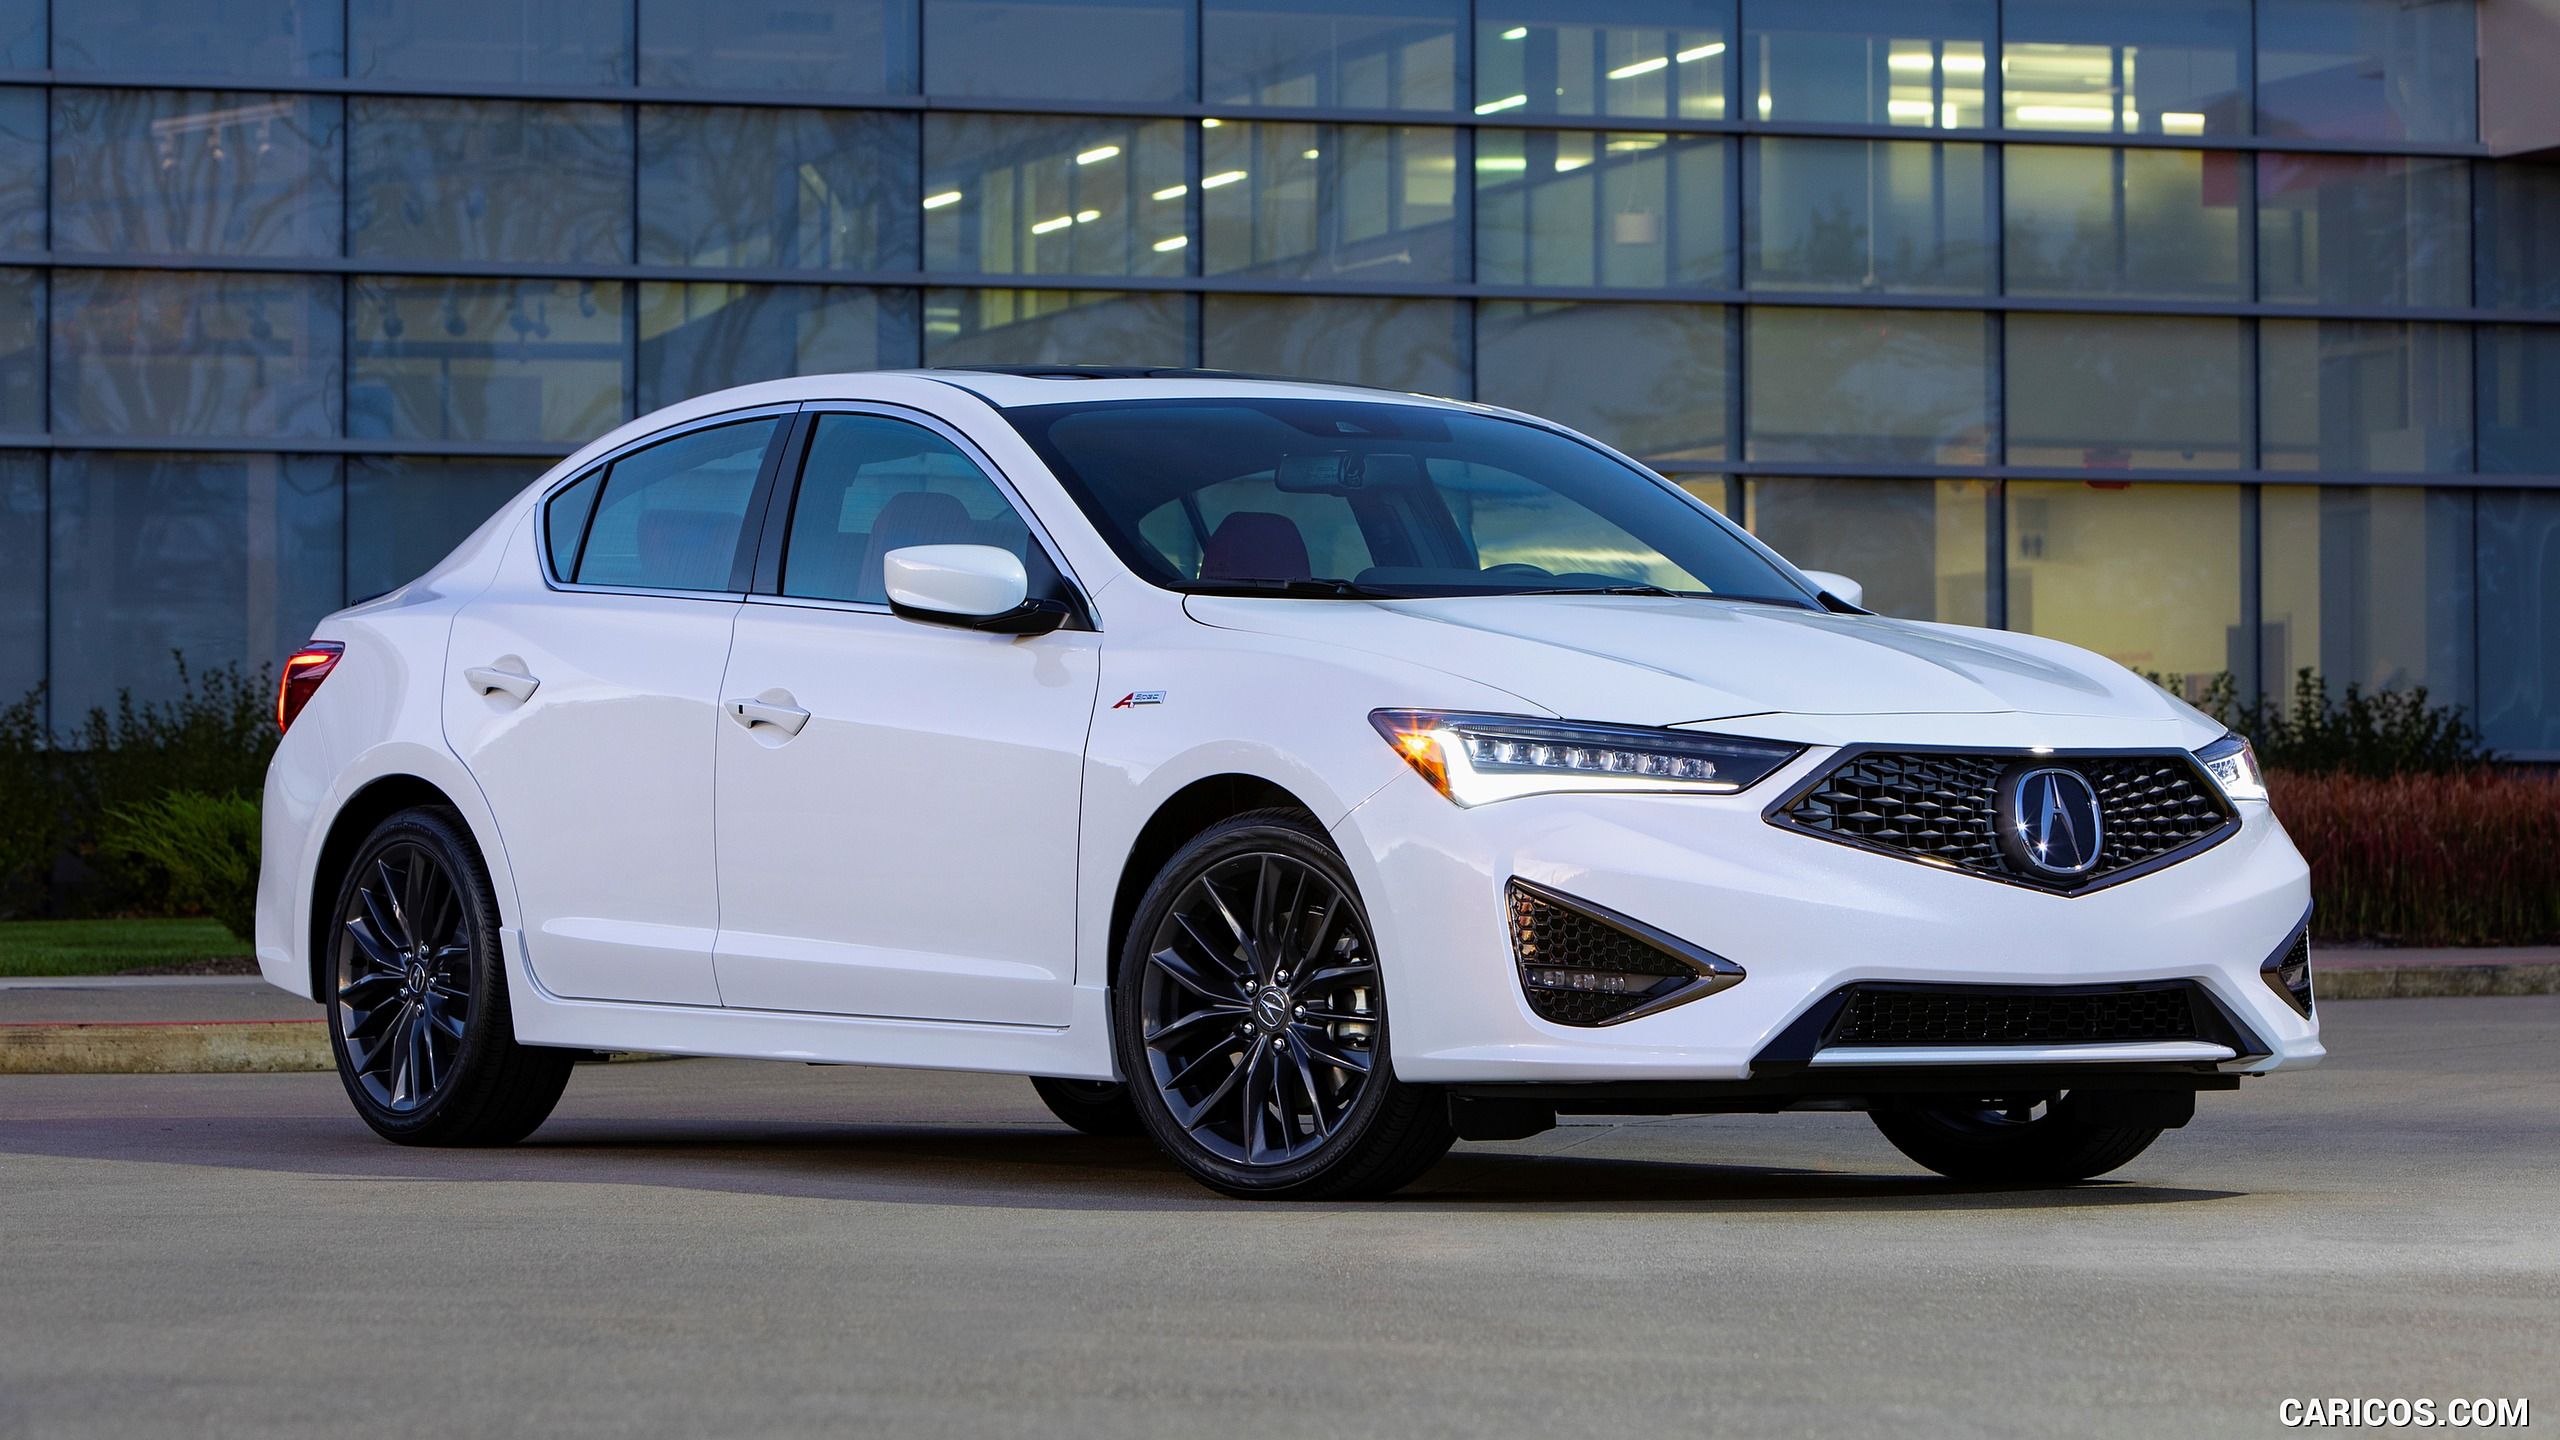Fog Lamp & Scope: (1507, 902, 1732, 1030)
Front: (1190, 614, 2337, 1074)
Front Bumper: (1354, 876, 2331, 1080)
Grill: (1795, 747, 2231, 876)
Headlight: (1363, 700, 1776, 811)
